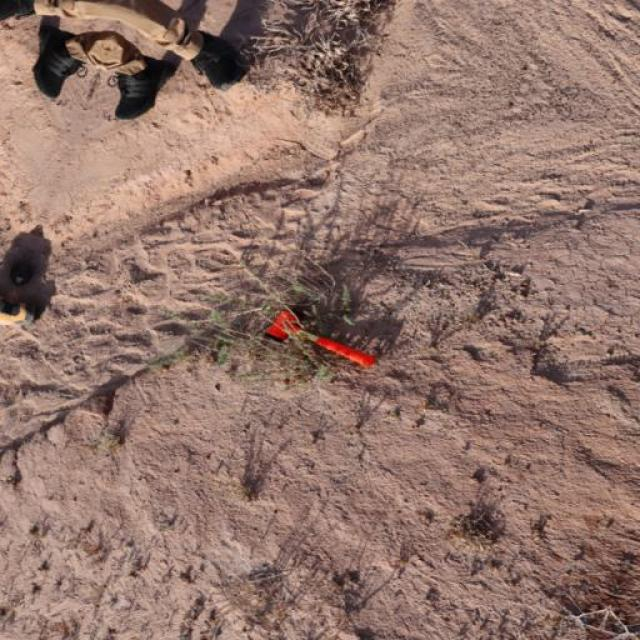mallet: (262, 306, 378, 369)
